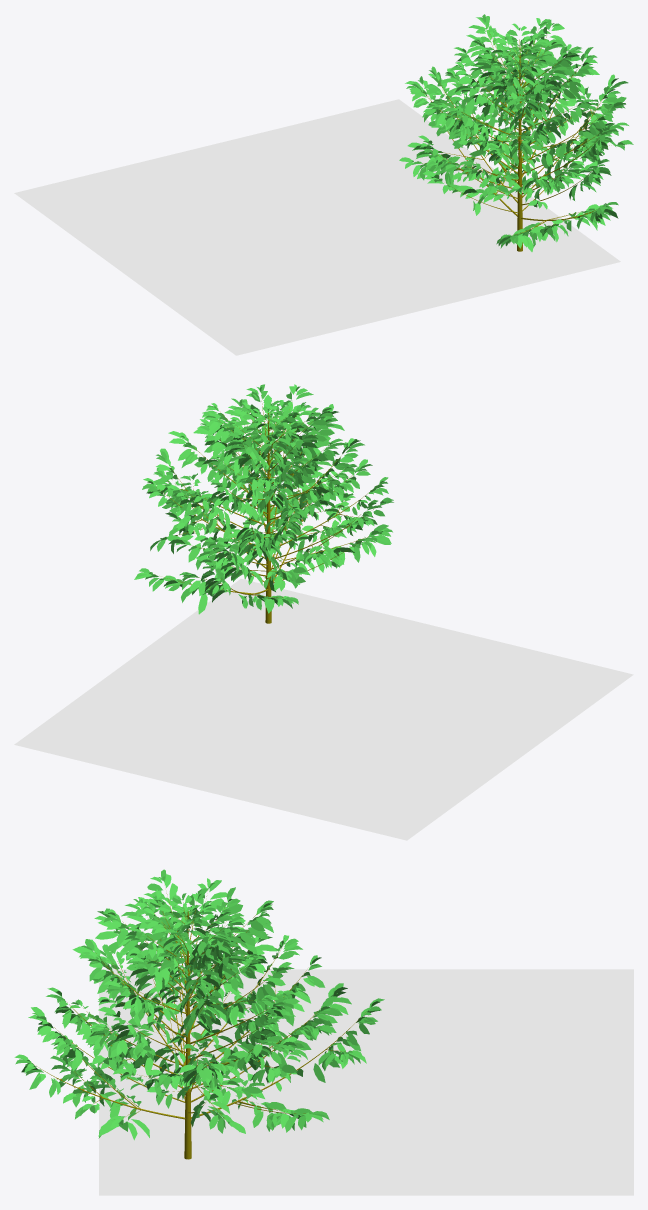
File: a_coffee_tree.glb
3 views of the same model, one above another, from view 1: azimuth 30°, elevation 25°; view 2: azimuth 150°, elevation 25°; view 3: azimuth 270°, elevation 25° (orthographic). The views are drawn at different scales.
Visible parts, largest first — view 1: Object_2, Object_3, Object_4, Object_5; view 2: Object_2, Object_3, Object_4, Object_5; view 3: Object_2, Object_3, Object_4, Object_5.
Boxes of the visible parts, x1,y1,x2,y2 form: Object_2: (14,99,620,355); Object_3: (399,14,633,251); Object_4: (422,30,609,251); Object_5: (424,82,602,185); Object_2: (14,579,633,840); Object_3: (134,384,393,614); Object_4: (164,401,373,623); Object_5: (159,452,371,546); Object_2: (99,969,633,1195); Object_3: (14,869,384,1140); Object_4: (37,893,366,1159); Object_5: (67,950,306,1073).
Bounding box in the file's own units: 3.34 × 1.6 × 3.48.
